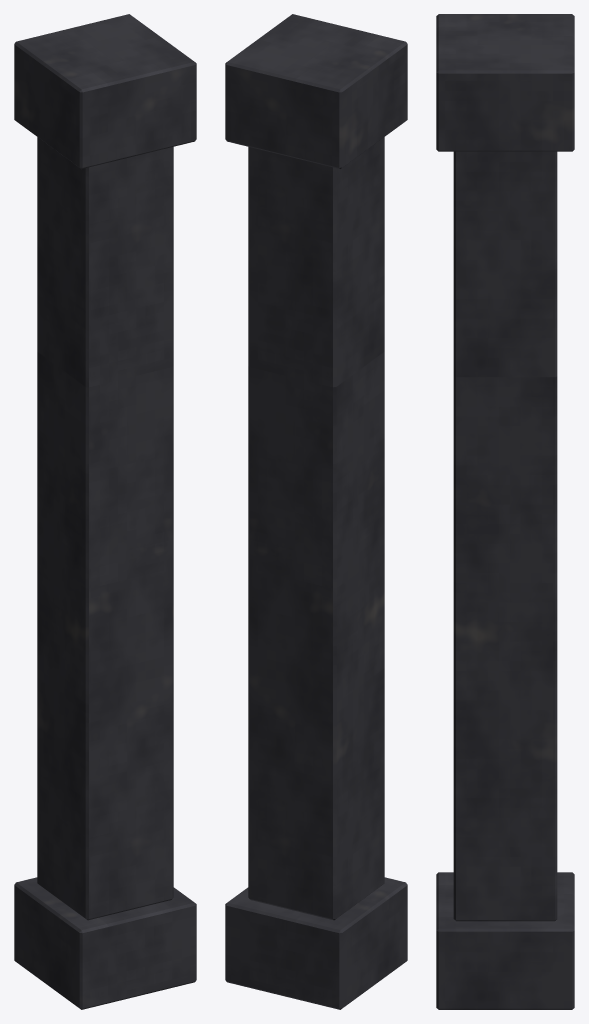
Rendered from canto.glb.
3 views of the same model, side by side, from view 1: azimuth 30°, elevation 25°; view 2: azimuth 150°, elevation 25°; view 3: azimuth 270°, elevation 25° (orthographic). The views are drawn at different scales.
Parts seen in each view (by area): view 1: canto; view 2: canto; view 3: canto.
Part boxes in pixels (x1,y1,x2,y2): canto: [14, 14, 196, 1009]; canto: [225, 14, 407, 1009]; canto: [436, 14, 574, 1009].
Size of the model in its own units: 0.4 by 3 by 0.4.
1 material, 1 textured.
